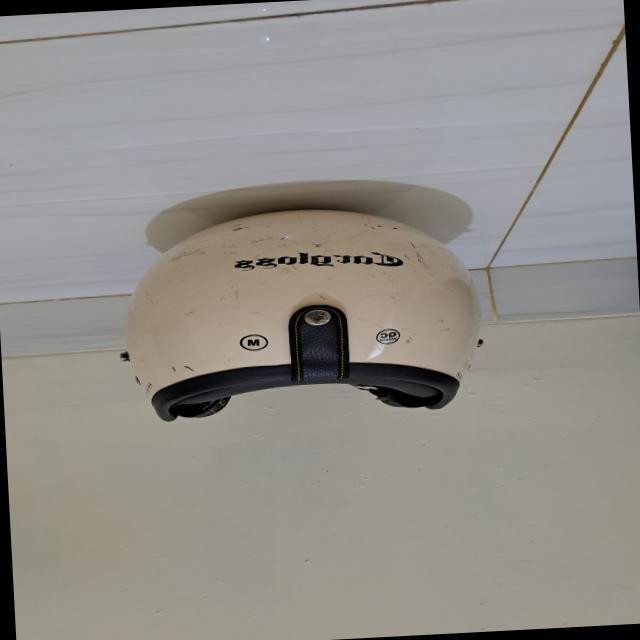Helm: (106, 187, 510, 433)
